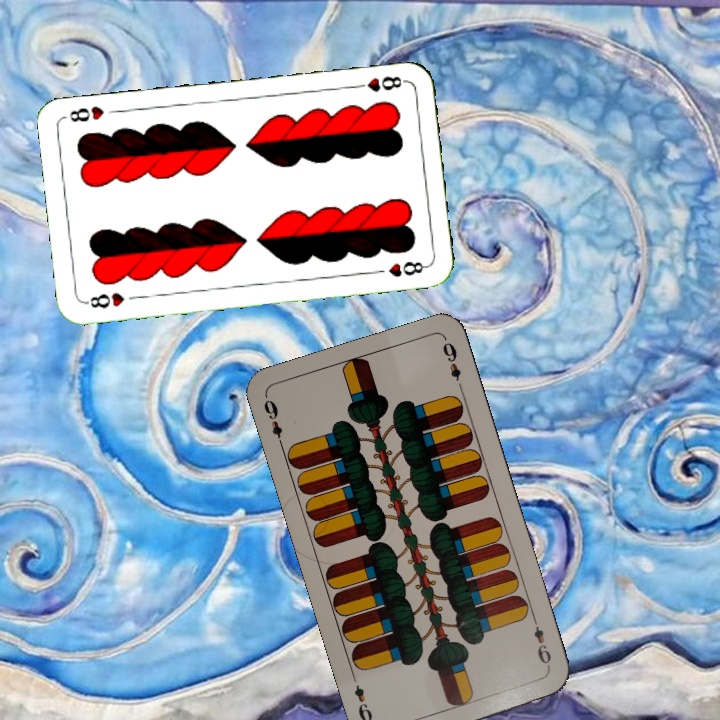E9: (259, 393, 286, 451), (529, 613, 554, 672)
H8: (350, 72, 409, 94), (81, 289, 127, 312)
